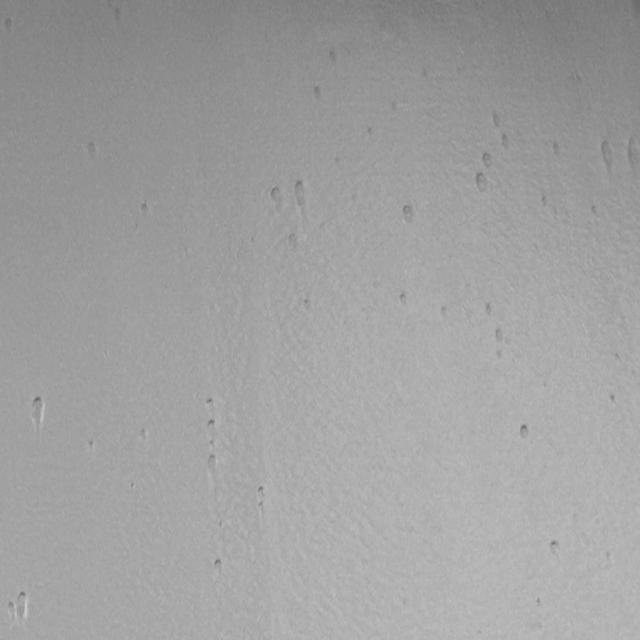pin holes: (595, 138, 621, 178), (290, 176, 312, 216), (26, 394, 48, 428), (265, 181, 287, 212), (401, 202, 421, 229), (488, 111, 506, 139), (628, 135, 640, 176), (490, 325, 509, 350), (548, 536, 566, 560), (84, 140, 102, 164), (325, 45, 343, 68), (111, 3, 129, 26), (204, 452, 221, 476), (473, 170, 491, 192), (286, 230, 302, 253), (309, 84, 326, 104), (518, 423, 534, 443), (550, 138, 566, 158), (364, 122, 380, 142), (256, 483, 271, 504), (2, 16, 18, 35), (482, 300, 497, 320), (479, 152, 496, 169), (397, 291, 412, 310), (17, 590, 27, 618), (137, 200, 152, 218), (301, 295, 315, 313), (588, 202, 602, 218), (608, 393, 622, 409), (214, 556, 226, 574), (206, 416, 218, 434), (7, 600, 16, 624), (137, 428, 150, 444), (204, 397, 216, 412), (540, 194, 552, 208), (87, 439, 98, 454), (128, 480, 138, 492), (535, 596, 543, 610), (456, 66, 464, 78), (391, 99, 398, 112), (441, 306, 447, 320), (218, 519, 224, 530), (209, 439, 215, 449), (334, 156, 340, 165)
